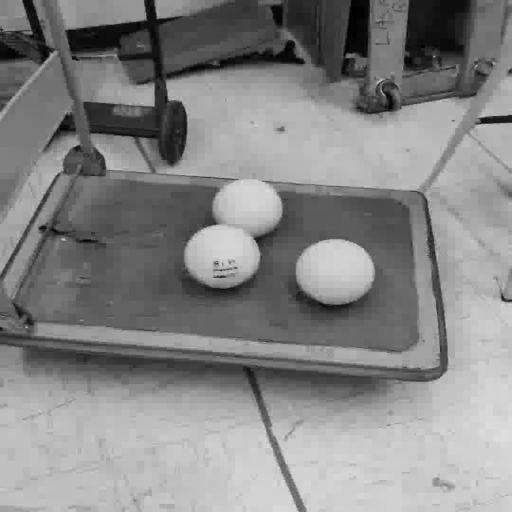fuel: (296, 240, 375, 305), (184, 224, 260, 289), (213, 180, 283, 237)
